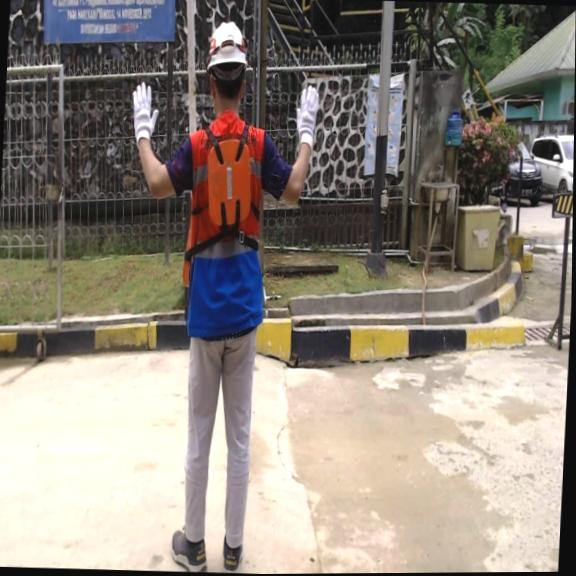safety_vest: (200, 133, 257, 233)
